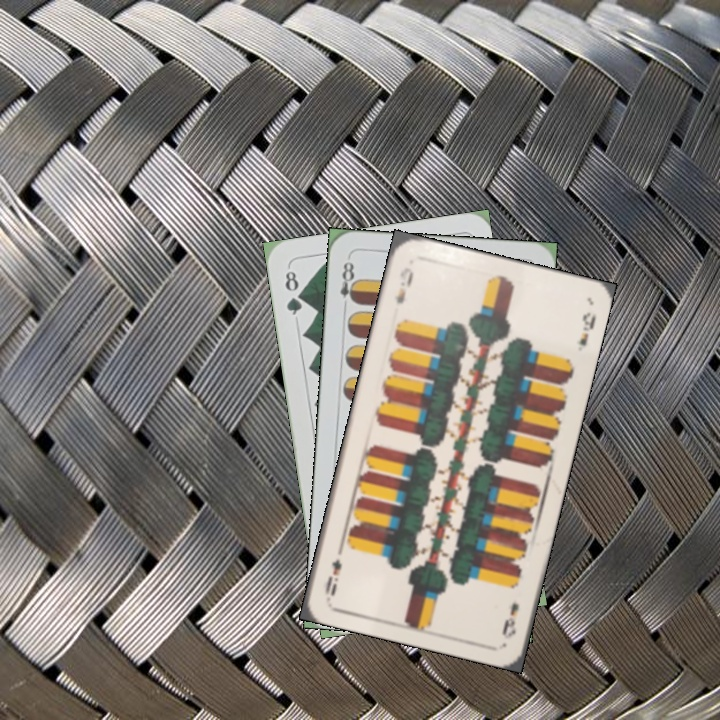E8: (336, 257, 360, 313)
E9: (391, 263, 416, 307), (498, 599, 522, 642)
G8: (281, 266, 306, 318)
